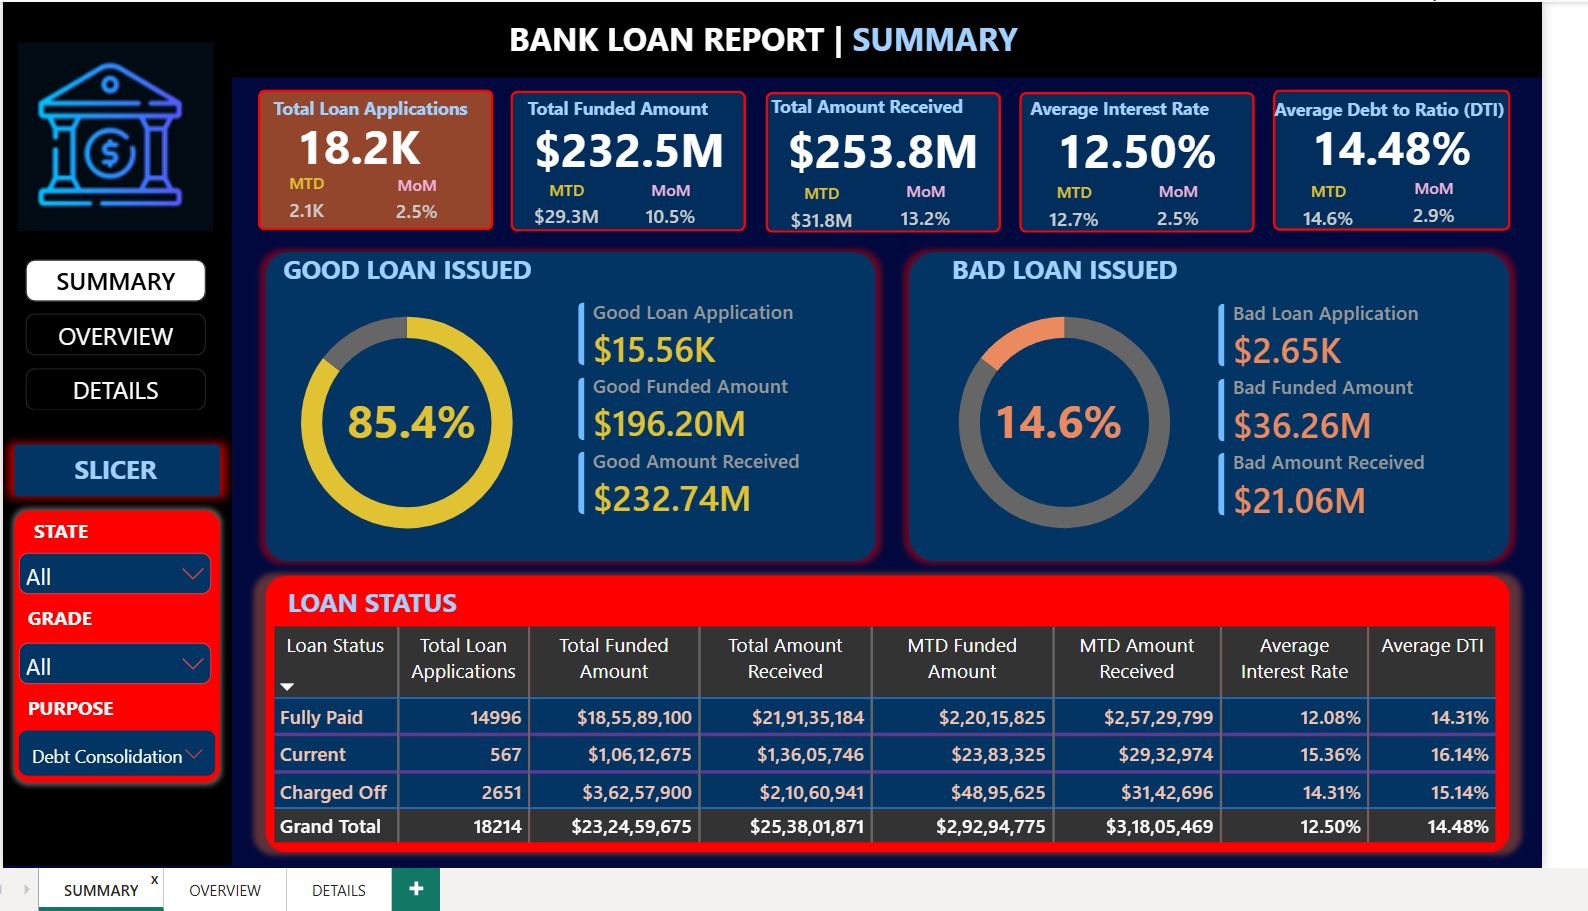

The page's visual inventory and layout, read from the dashboard file:
{"tool":"powerbi","page":{"name":"SUMMARY","canvas":[1280,720],"ordinal":0},"visuals":[{"type":"shape","box":[211.4,73,195.7,117.1],"z":0,"group":"g1"},{"type":"shape","box":[1055.7,73,197.5,117.5],"z":0,"group":"g5"},{"type":"shape","box":[422.5,73.9,195.7,117.1],"z":0,"group":"g2"},{"type":"shape","box":[633.6,74.6,195.7,117.1],"z":0,"group":"g3"},{"type":"shape","box":[844.6,74.7,195.7,117.1],"z":0,"group":"g4"},{"type":"textbox","box":[210.9,202.5,250.5,39.6],"z":0},{"type":"donutChart","fields":{"Category":["financial_loan.Good vrs Bad Loan"],"Y":["1  DAX Measures.Total Loan Applications"]},"box":[757.4,234.5,250.2,229.8],"z":0,"group":"g7"},{"type":"group","id":"g1","title":"Group 1","box":[204.3,73,202.9,120],"z":1000},{"type":"card","fields":{"Values":["1  DAX Measures.Average DTI"]},"box":[1066.6,82.4,177.3,77.4],"z":1000,"group":"g5"},{"type":"card","fields":{"Values":["1  DAX Measures.Total Funded Amount"]},"box":[433.3,83.3,175.7,77.1],"z":1000,"group":"g2"},{"type":"card","fields":{"Values":["1  DAX Measures.Total Amount Received"]},"box":[644.4,84,175.7,77.1],"z":1000,"group":"g3"},{"type":"card","fields":{"Values":["1  DAX Measures.Average Interest Rate"]},"box":[855.4,84.1,175.7,77.1],"z":1000,"group":"g4"},{"type":"card","fields":{"Values":["1  DAX Measures.Total Loan Applications"]},"box":[217.2,84.4,157.1,70],"z":1000,"group":"g1"},{"type":"textbox","box":[629.4,71.2,177.1,34.3],"z":2000,"group":"g3"},{"type":"textbox","box":[839.6,72.6,177.1,34.3],"z":2000,"group":"g4"},{"type":"textbox","box":[216.8,73.2,176.4,34.5],"z":2000,"group":"g1"},{"type":"group","id":"g2","title":"Group 1","box":[421.1,73.2,197.1,123.6],"z":2000},{"type":"textbox","box":[426.3,73.2,170,30.9],"z":2000,"group":"g2"},{"type":"textbox","box":[1049.9,73.9,206.1,32.2],"z":2000,"group":"g5"},{"type":"textbox","box":[415.7,7.3,449.2,47.4],"z":3000},{"type":"card","title":"MTD","fields":{"Values":["1  DAX Measures.MTD Loan Applications"]},"box":[204.3,141.6,95.7,50],"z":3000,"group":"g1"},{"type":"card","title":"MTD","fields":{"Values":["1  DAX Measures.MTD Funded Amount"]},"box":[421.1,146.8,95.7,50],"z":3000,"group":"g2"},{"type":"card","title":"MTD","fields":{"Values":["1  DAX Measures.MTD DTI"]},"box":[1054.3,147.5,96.6,50.1],"z":3000,"group":"g5"},{"type":"card","title":"MTD","fields":{"Values":["1  DAX Measures.MTD Amount Received"]},"box":[632.2,148.9,95.7,50],"z":3000,"group":"g3"},{"type":"card","title":"MTD","fields":{"Values":["1  DAX Measures.MTD Interest Rate"]},"box":[843.2,149,95.7,50],"z":3000,"group":"g4"},{"type":"group","id":"g3","title":"Group 1","box":[629.4,71.2,199.9,127.7],"z":4000},{"type":"card","title":"MoM","fields":{"Values":["1  DAX Measures.MoM Loan Applications"]},"box":[285.7,143,117.1,50],"z":4000,"group":"g1"},{"type":"card","title":"MoM","fields":{"Values":["1  DAX Measures.MoM DTI"]},"box":[1130.7,146.1,118.2,50.1],"z":4000,"group":"g5"},{"type":"card","title":"MoM","fields":{"Values":["1  DAX Measures.MoM Funded Amount"]},"box":[496.8,146.8,117.1,50],"z":4000,"group":"g2"},{"type":"card","title":"MoM","fields":{"Values":["1  DAX Measures.MoM Amount Received"]},"box":[707.9,147.5,117.1,50],"z":4000,"group":"g3"},{"type":"card","title":"MoM","fields":{"Values":["1  DAX Measures.MoM Interest Rate"]},"box":[918.9,147.5,117.1,50],"z":4000,"group":"g4"},{"type":"group","id":"g4","title":"Group 1","box":[839.6,72.6,200.7,126.4],"z":5000},{"type":"group","id":"g5","title":"Group 1","box":[1049.9,73,206.1,124.6],"z":6000},{"type":"textbox","box":[757.4,202.5,250,39.9],"z":7000},{"type":"donutChart","fields":{"Category":["financial_loan.Good vrs Bad Loan"],"Y":["1  DAX Measures.Total Loan Applications"]},"box":[211.1,234.9,250,230],"z":7000,"group":"g6"},{"type":"cardVisual","fields":{"Data":["1  DAX Measures.Good Loan Application","1  DAX Measures.Good Funded Amount","1  DAX Measures.Good Amount Received"]},"box":[461.3,213.2,263.8,250.2],"z":8000,"group":"g6"},{"type":"tableEx","fields":{"Values":["financial_loan.loan_status","1  DAX Measures.Total Loan Applications","1  DAX Measures.Total Funded Amount","1  DAX Measures.Total Amount Received","1  DAX Measures.MTD Funded Amount","1  DAX Measures.MTD Amount Received","1  DAX Measures.Average Interest Rate","1  DAX Measures.Average DTI"]},"box":[219.3,514.2,1028.9,200],"z":8000},{"type":"card","fields":{"Values":["1  DAX Measures.Good Loan Percentage"]},"box":[251.7,309.9,176.6,76.9],"z":9000,"group":"g6"},{"type":"textbox","box":[231.3,479.4,175,39.6],"z":9000},{"type":"slicer","fields":{"Values":["financial_loan.State Name"]},"box":[8.6,453.1,170,45],"z":10000},{"type":"textbox","box":[15.9,422.6,65.5,33],"z":11000},{"type":"slicer","fields":{"Values":["financial_loan.grade"]},"box":[8.3,527.9,170,45],"z":12000},{"type":"slicer","fields":{"Values":["financial_loan.Purpose Name"]},"box":[12,604.4,165,39],"z":13000},{"type":"textbox","box":[15.9,495.6,74.3,34.8],"z":14000},{"type":"textbox","box":[15.9,570.4,89.9,36],"z":15000},{"type":"image","box":[12.4,31.2,162.1,162],"z":16000},{"type":"card","fields":{"Values":["1  DAX Measures.Bad Loan Percentage"]},"box":[790.1,309,174.8,76.9],"z":16000,"group":"g7"},{"type":"pageNavigator","box":[18.7,214.1,150,125],"z":17000},{"type":"group","id":"g6","title":"Group 2","box":[211.1,213.2,514,251.7],"z":18000},{"type":"cardVisual","fields":{"Data":["1  DAX Measures.Bad Loan Application","1  DAX Measures.Bad Funded Amount","1  DAX Measures.Bad Amount Received"]},"box":[993.5,213.7,253.6,250.5],"z":18000,"group":"g7"},{"type":"group","id":"g7","title":"Group 3","box":[757.4,213.7,489.7,250.6],"z":19000},{"type":"textbox","box":[8.3,368.9,170.4,39.5],"z":20000}]}

Visuals, with their boxes on the page's 1280x720 design canvas (x1, y1, x2, y2). These are canvas units, not pixel positions in the 1588x911 screenshot, which may show the page scaled, cropped or inside an application window:
shape: <region>211, 73, 407, 190</region>
shape: <region>1056, 73, 1253, 190</region>
shape: <region>422, 74, 618, 191</region>
shape: <region>634, 75, 829, 192</region>
shape: <region>845, 75, 1040, 192</region>
textbox: <region>211, 202, 461, 242</region>
donutChart - financial_loan.Good vrs Bad Loan x 1  DAX Measures.Total Loan Applications: <region>757, 234, 1008, 464</region>
"Group 1" group: <region>204, 73, 407, 193</region>
card - 1  DAX Measures.Average DTI: <region>1067, 82, 1244, 160</region>
card - 1  DAX Measures.Total Funded Amount: <region>433, 83, 609, 160</region>
card - 1  DAX Measures.Total Amount Received: <region>644, 84, 820, 161</region>
card - 1  DAX Measures.Average Interest Rate: <region>855, 84, 1031, 161</region>
card - 1  DAX Measures.Total Loan Applications: <region>217, 84, 374, 154</region>
textbox: <region>629, 71, 806, 106</region>
textbox: <region>840, 73, 1017, 107</region>
textbox: <region>217, 73, 393, 108</region>
"Group 1" group: <region>421, 73, 618, 197</region>
textbox: <region>426, 73, 596, 104</region>
textbox: <region>1050, 74, 1256, 106</region>
textbox: <region>416, 7, 865, 55</region>
"MTD" card: <region>204, 142, 300, 192</region>
"MTD" card: <region>421, 147, 517, 197</region>
"MTD" card: <region>1054, 148, 1151, 198</region>
"MTD" card: <region>632, 149, 728, 199</region>
"MTD" card: <region>843, 149, 939, 199</region>
"Group 1" group: <region>629, 71, 829, 199</region>
"MoM" card: <region>286, 143, 403, 193</region>
"MoM" card: <region>1131, 146, 1249, 196</region>
"MoM" card: <region>497, 147, 614, 197</region>
"MoM" card: <region>708, 148, 825, 198</region>
"MoM" card: <region>919, 148, 1036, 198</region>
"Group 1" group: <region>840, 73, 1040, 199</region>
"Group 1" group: <region>1050, 73, 1256, 198</region>
textbox: <region>757, 202, 1007, 242</region>
donutChart - financial_loan.Good vrs Bad Loan x 1  DAX Measures.Total Loan Applications: <region>211, 235, 461, 465</region>
cardVisual - 1  DAX Measures.Good Loan Application x 1  DAX Measures.Good Funded Amount: <region>461, 213, 725, 463</region>
tableEx - financial_loan.loan_status x 1  DAX Measures.Total Loan Applications: <region>219, 514, 1248, 714</region>
card - 1  DAX Measures.Good Loan Percentage: <region>252, 310, 428, 387</region>
textbox: <region>231, 479, 406, 519</region>
slicer - financial_loan.State Name: <region>9, 453, 179, 498</region>
textbox: <region>16, 423, 81, 456</region>
slicer - financial_loan.grade: <region>8, 528, 178, 573</region>
slicer - financial_loan.Purpose Name: <region>12, 604, 177, 643</region>
textbox: <region>16, 496, 90, 530</region>
textbox: <region>16, 570, 106, 606</region>
image: <region>12, 31, 174, 193</region>
card - 1  DAX Measures.Bad Loan Percentage: <region>790, 309, 965, 386</region>
pageNavigator: <region>19, 214, 169, 339</region>
"Group 2" group: <region>211, 213, 725, 465</region>
cardVisual - 1  DAX Measures.Bad Loan Application x 1  DAX Measures.Bad Funded Amount: <region>994, 214, 1247, 464</region>
"Group 3" group: <region>757, 214, 1247, 464</region>
textbox: <region>8, 369, 179, 408</region>
